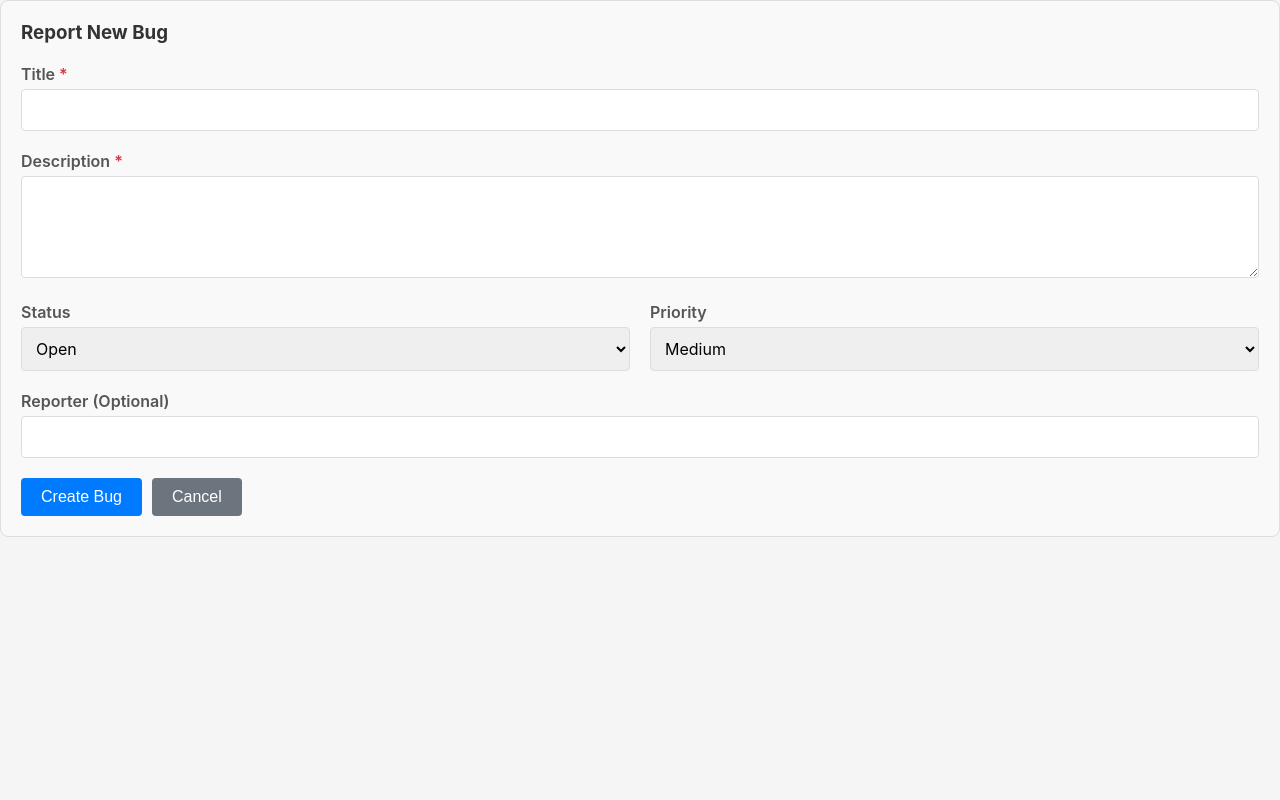
Test case: BugForm Unit Tests › should validate required fields
This screenshot has width=1280, height=800.
Click the button with test id "submit-button".
click(81, 497)  # box [21,478,142,516]
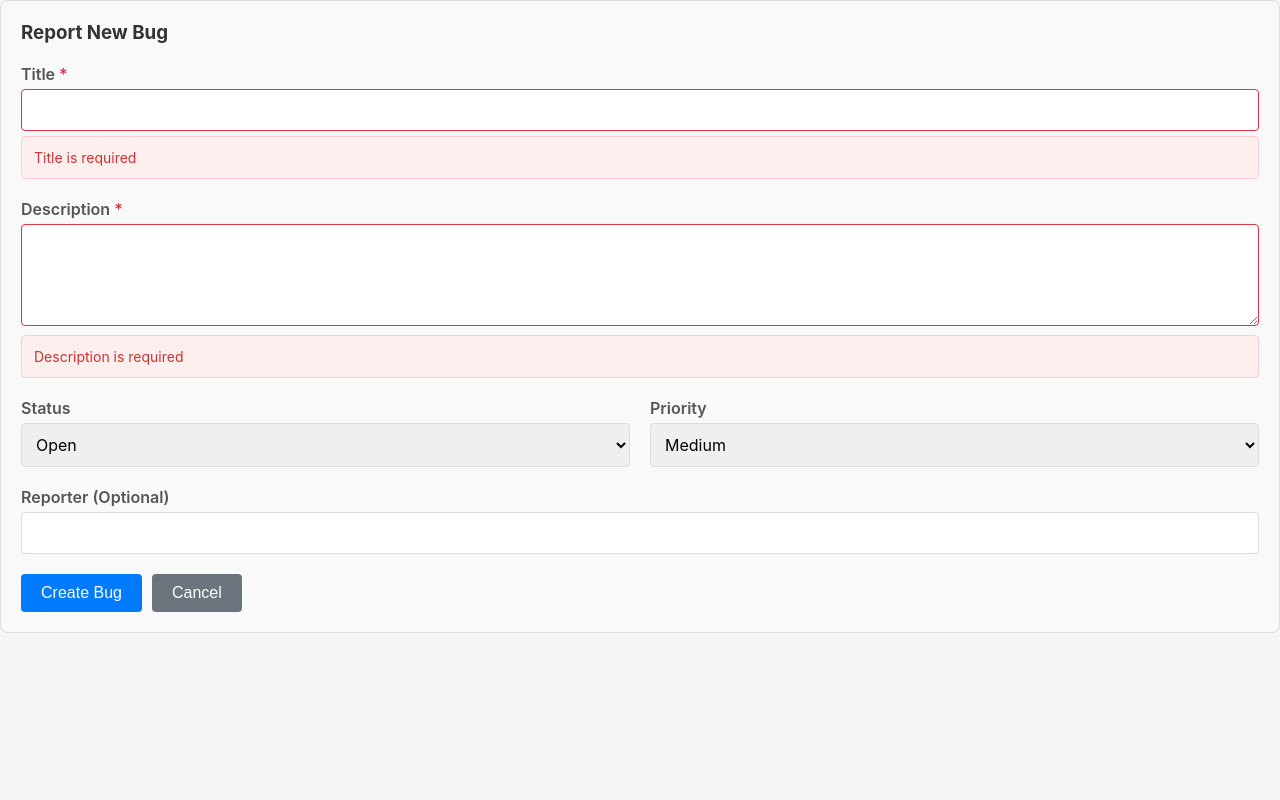
Expected: the text "Title is required" is shown, [21,136,1259,179]
Expected: the text "Description is required" is shown, [21,335,1259,378]
